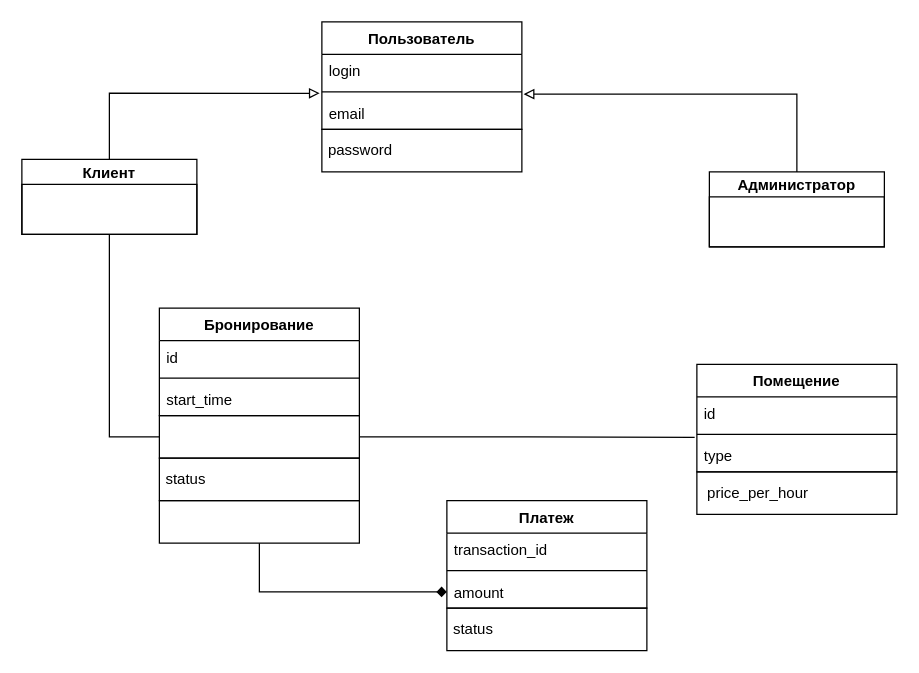
Image size: 919x673. Some labels were removed from this diagram. Here are the shapes that lost their labels. From the top down, the centre of each, then its label:
At [109,208]: "phone".
At [796,221]: "department".
At [258,436]: "end_time".
At [258,521]: "total_price".
